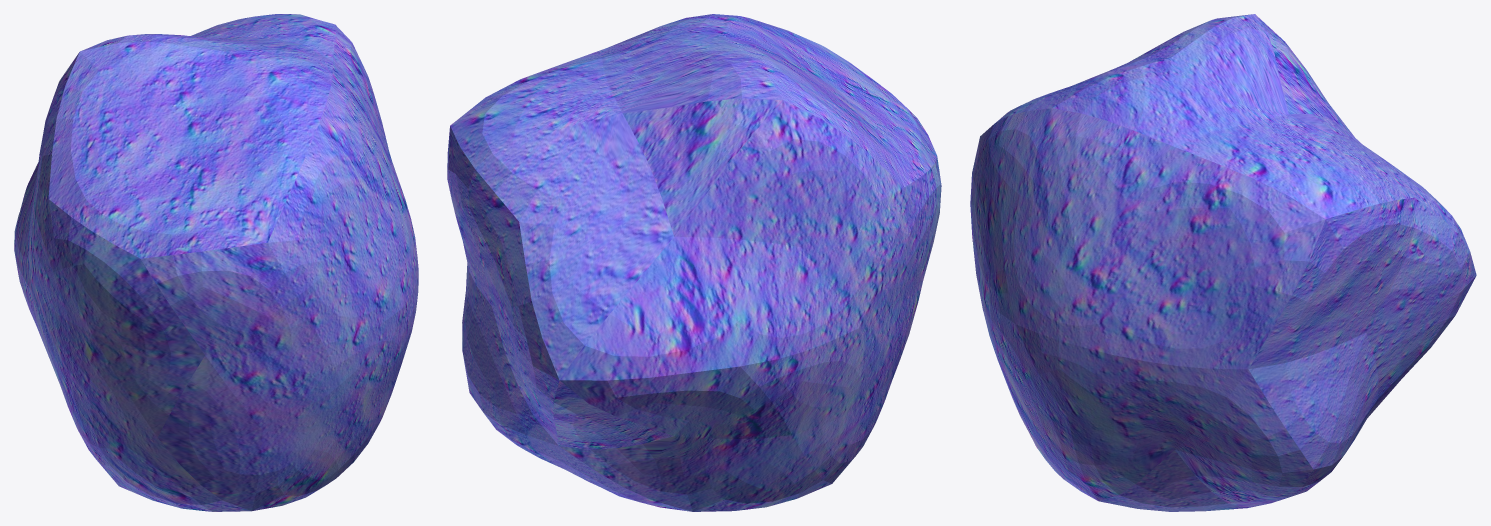
Rendered from bigasteroid14_LOD2.fbx.
3 renders of one model, left to right at view 1: azimuth 30°, elevation 25°; view 2: azimuth 150°, elevation 25°; view 3: azimuth 270°, elevation 25°, orthographic. The views are drawn at different scales.
Visible parts, largest first — view 1: Icosphere; view 2: Icosphere; view 3: Icosphere.
Boxes of the visible parts, bbox=[...] form: Icosphere: bbox=[14, 14, 418, 511]; Icosphere: bbox=[447, 14, 941, 511]; Icosphere: bbox=[970, 14, 1476, 511].
Bounding box in the file's own units: 212 × 228 × 248.
